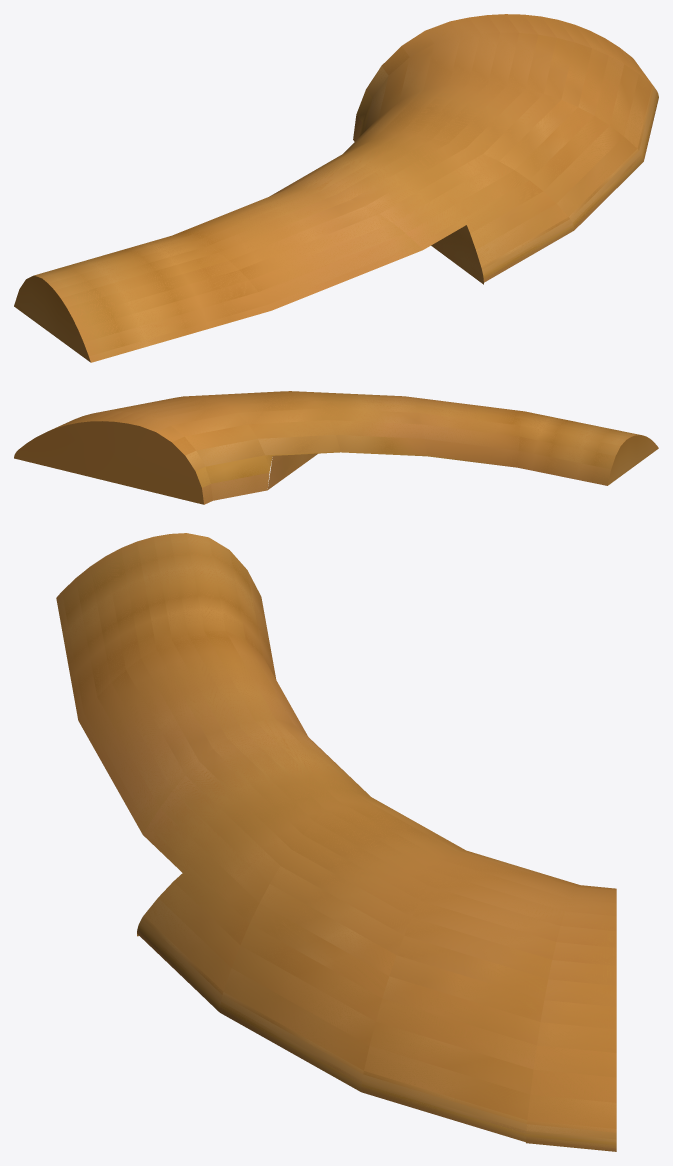
The model's file is original-16.obj.
The picture shows the model from 3 angles, top to bottom: view 1: azimuth 30°, elevation 25°; view 2: azimuth 150°, elevation 25°; view 3: azimuth 270°, elevation 25°; orthographic projection. The views are drawn at different scales.
Parts seen in each view (by area): view 1: Quarter_handle1/Quarter_handle/mesh9/mesh9-geometry#mesh9-geomet; view 2: Quarter_handle1/Quarter_handle/mesh9/mesh9-geometry#mesh9-geomet; view 3: Quarter_handle1/Quarter_handle/mesh9/mesh9-geometry#mesh9-geomet.
Boxes of the visible parts, x1,y1,x2,y2 form: Quarter_handle1/Quarter_handle/mesh9/mesh9-geometry#mesh9-geomet: (14, 14, 658, 362); Quarter_handle1/Quarter_handle/mesh9/mesh9-geometry#mesh9-geomet: (14, 391, 658, 504); Quarter_handle1/Quarter_handle/mesh9/mesh9-geometry#mesh9-geomet: (56, 533, 616, 1151).
Size of the model in its own units: 0.0661 by 0.008 by 0.0318.
